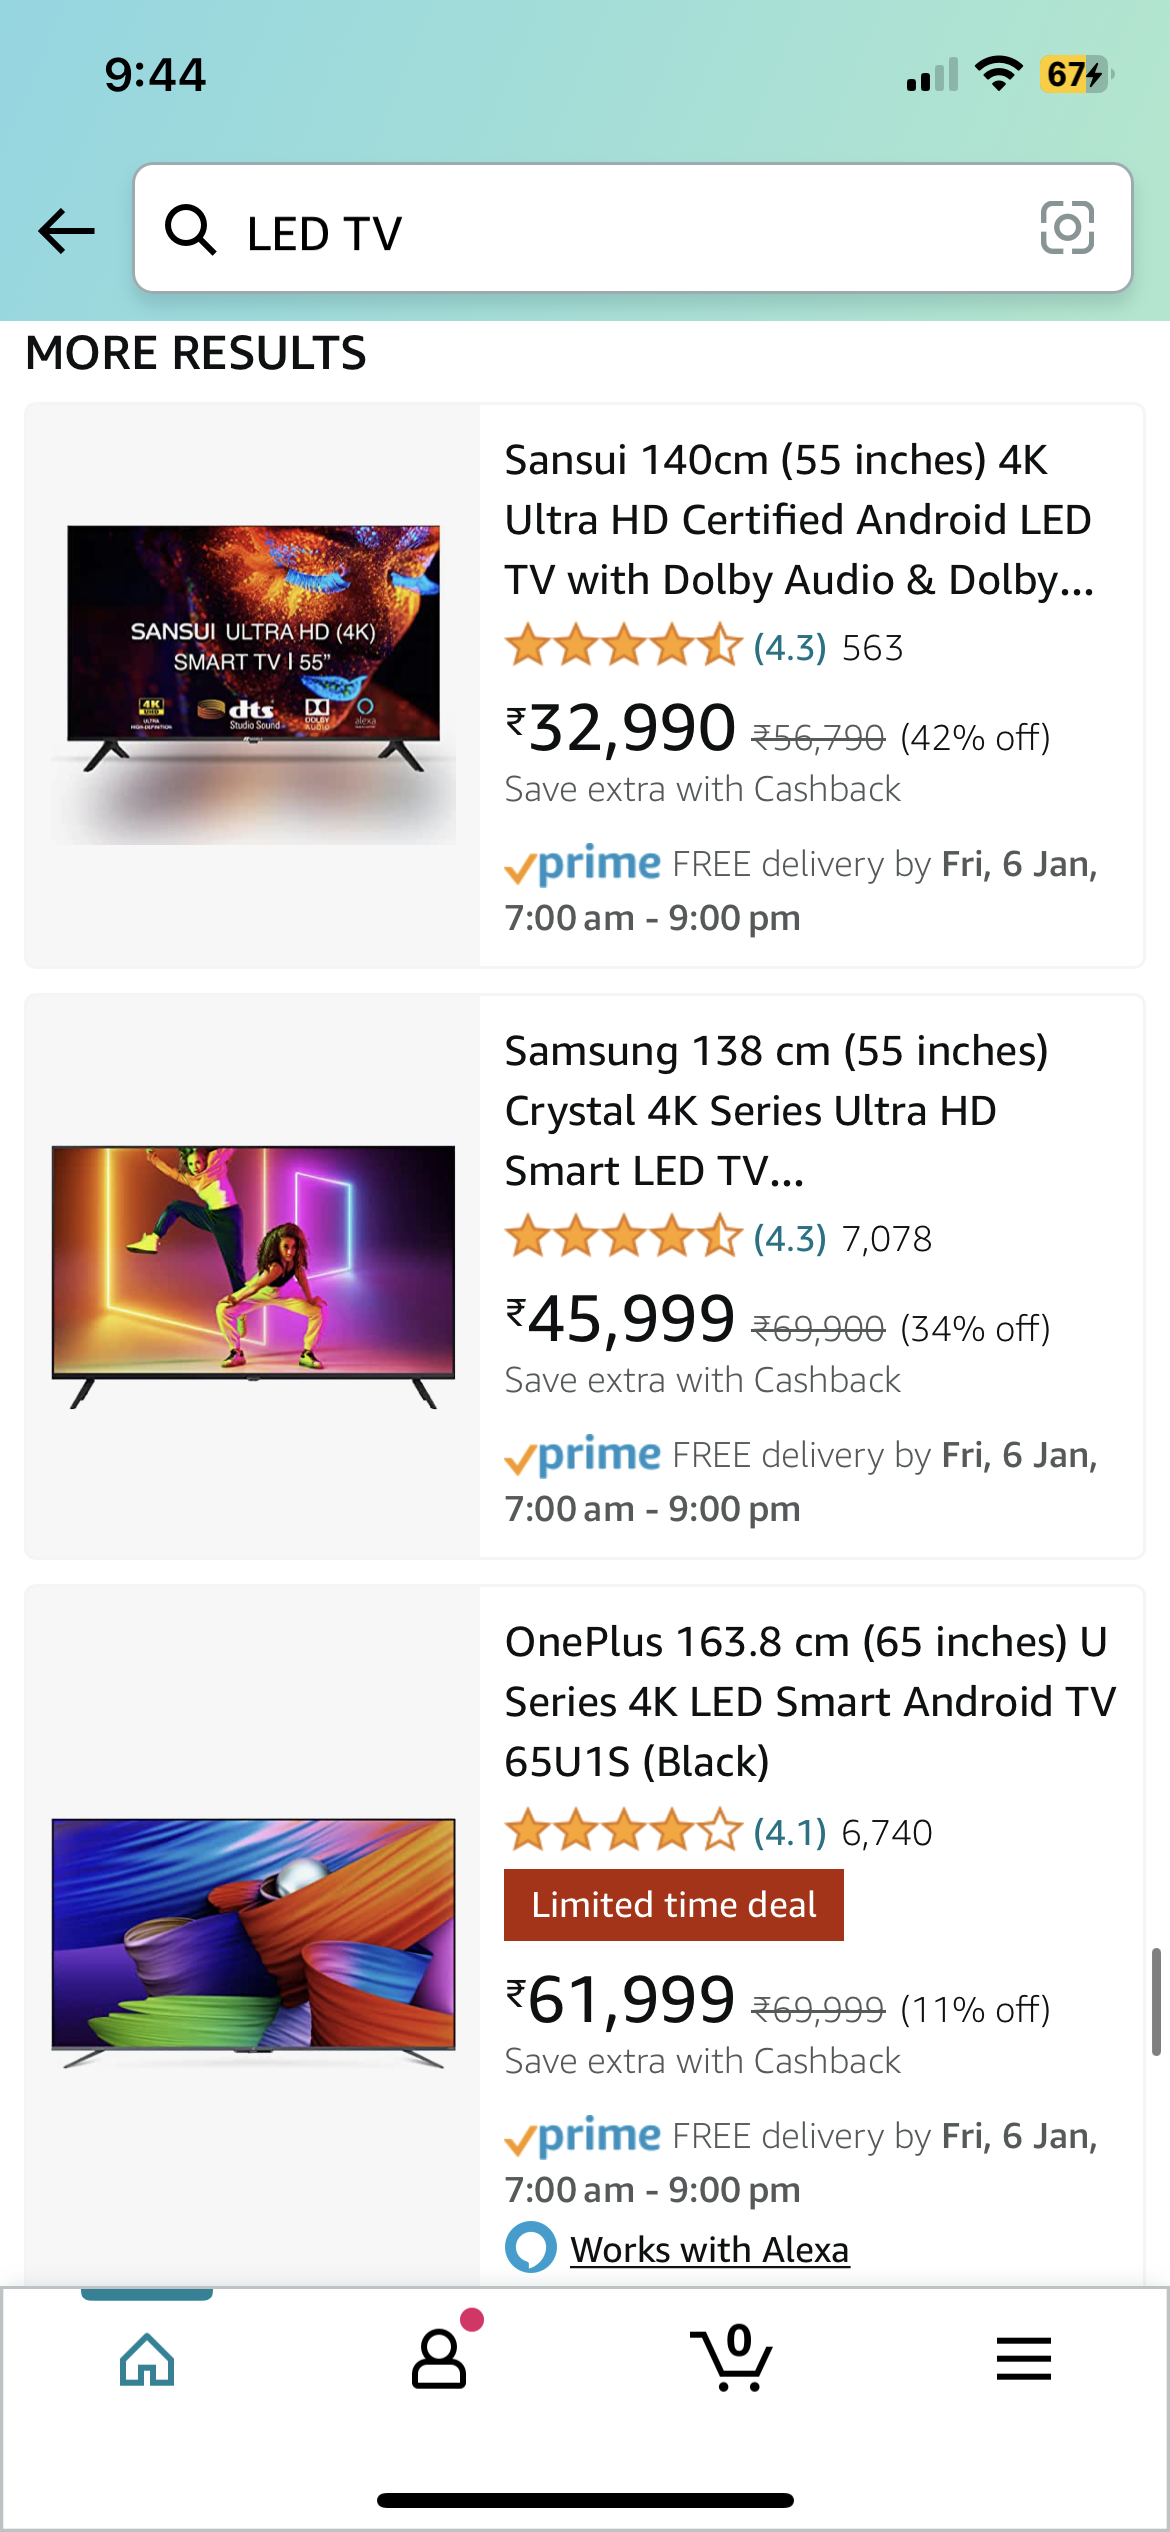LEDTV: (40, 1135, 470, 1403), (44, 1810, 458, 2073), (61, 518, 450, 777)
